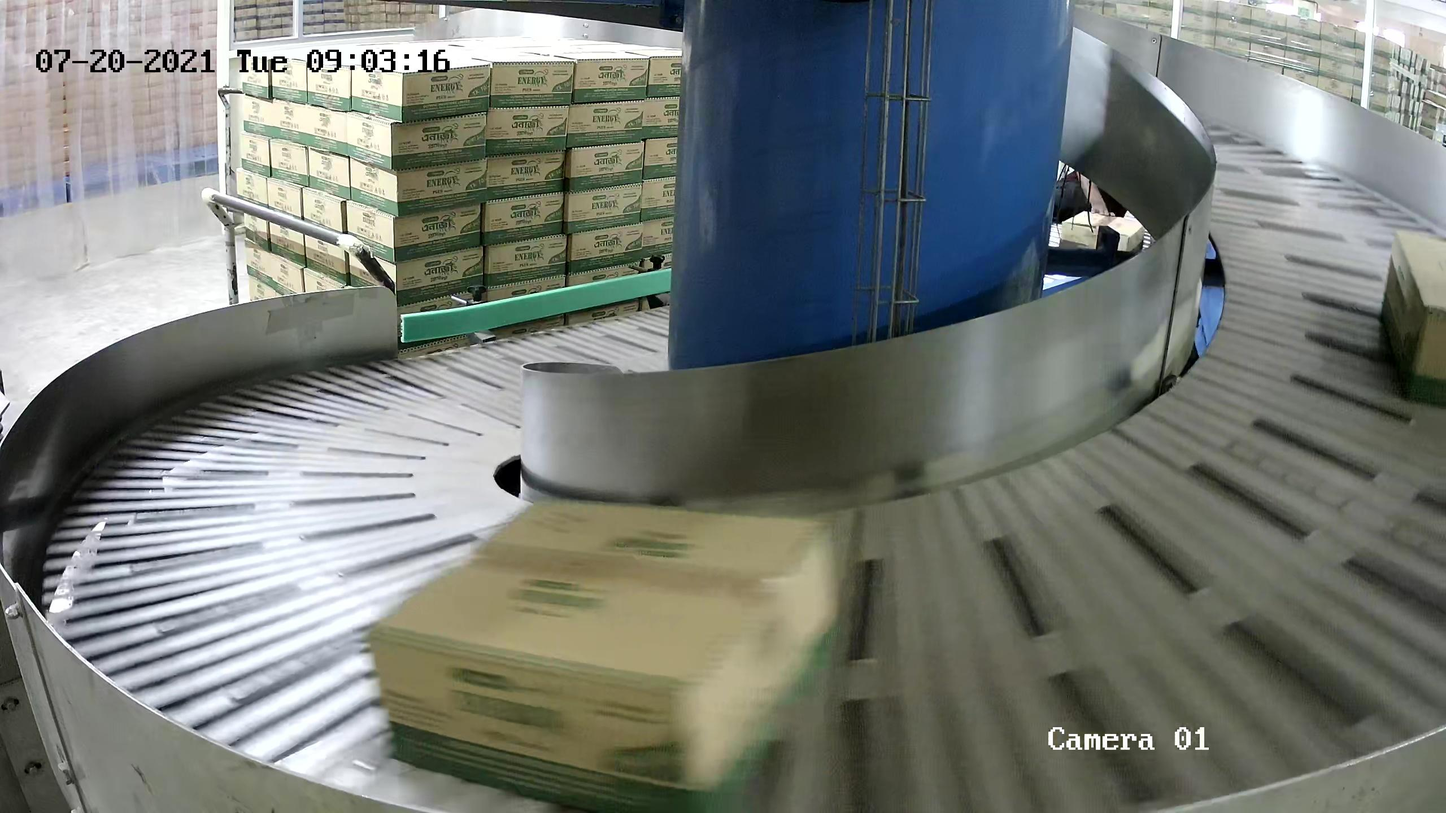Box: (361, 494, 845, 813), (1378, 231, 1446, 412)
